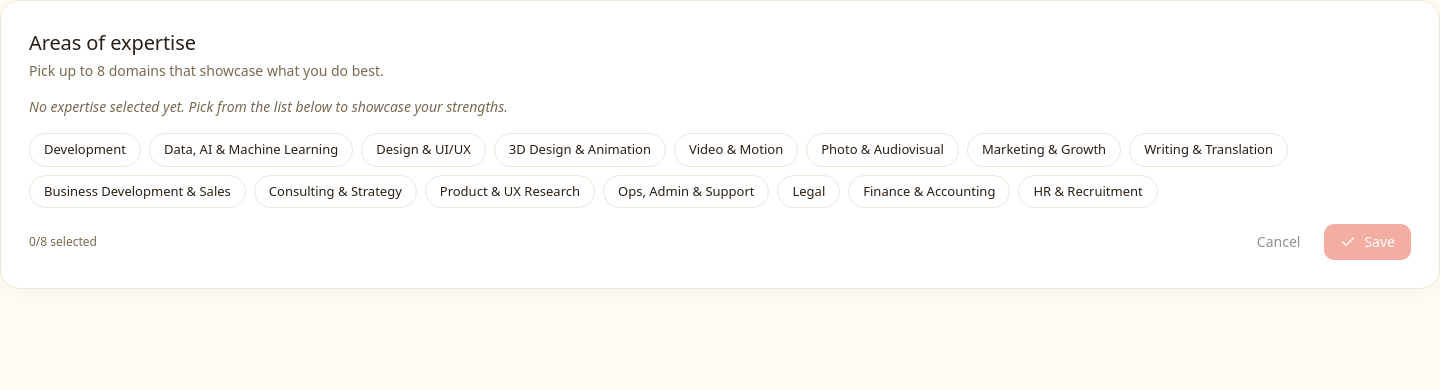
ExpertiseEditor › falls back to a generic message for any other failure
Click the button "Development" at x=85, y=150, box [29, 133, 141, 166]
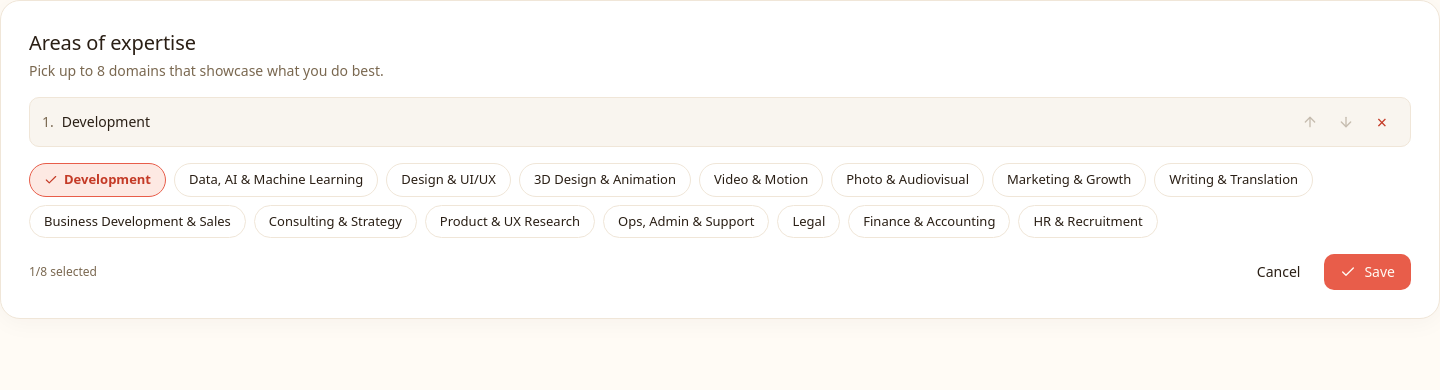
Click the button "Save" at x=1368, y=272, box [1324, 254, 1411, 290]
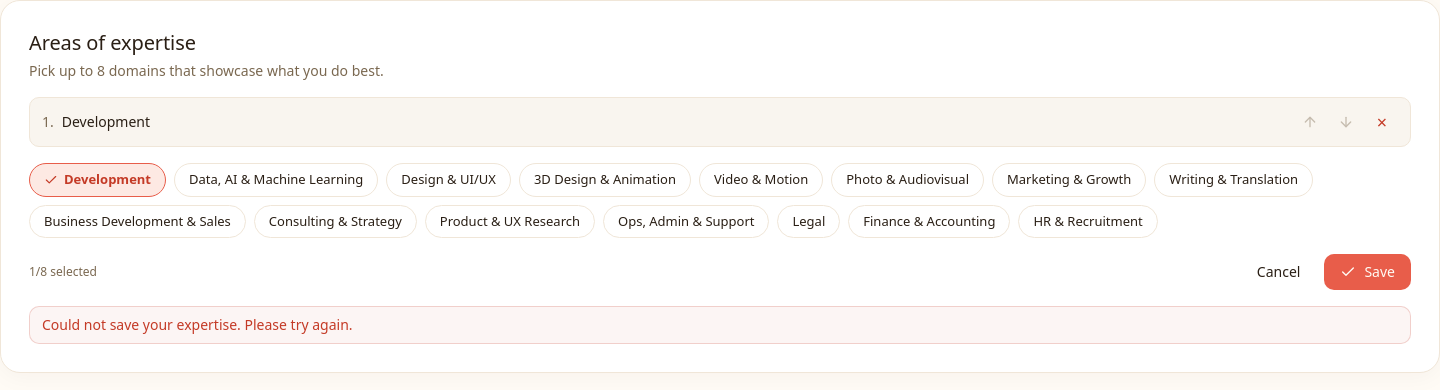
expect the message shows "Could not save": met, box [42, 315, 352, 334]
